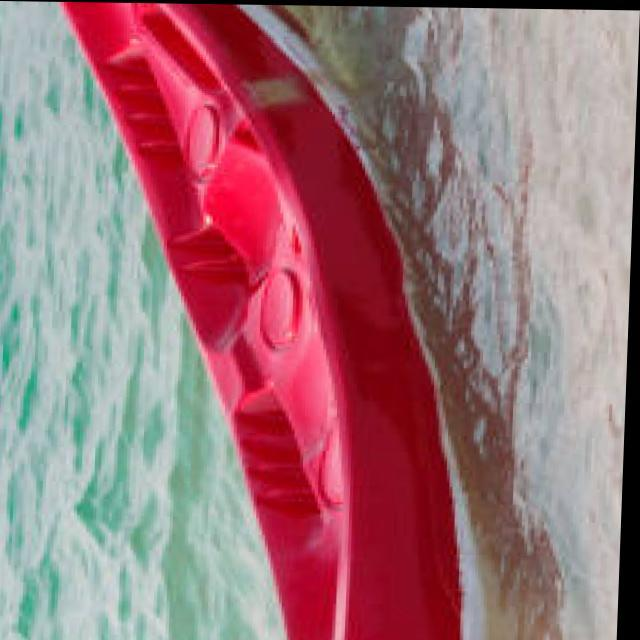kayak: (56, 1, 492, 640)
